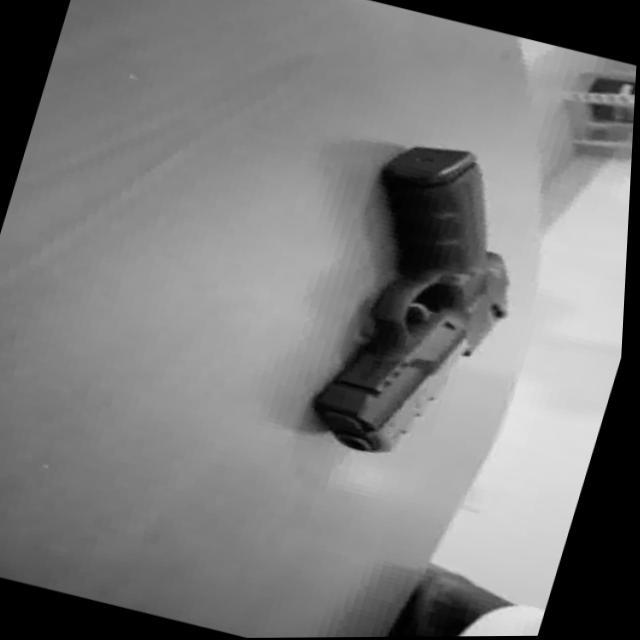weapon: (302, 131, 554, 476)
